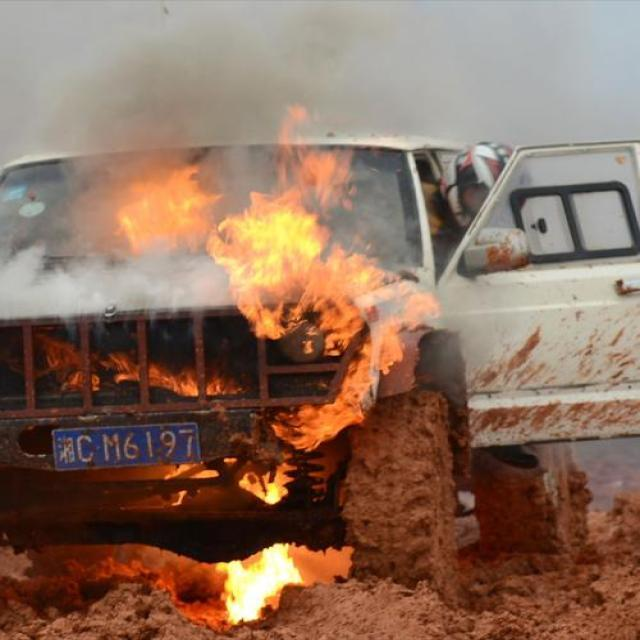Fire: (210, 142, 380, 350), (270, 344, 400, 439), (113, 166, 212, 256), (211, 541, 301, 625)
